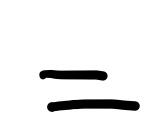eqv: (40, 69, 140, 111)
